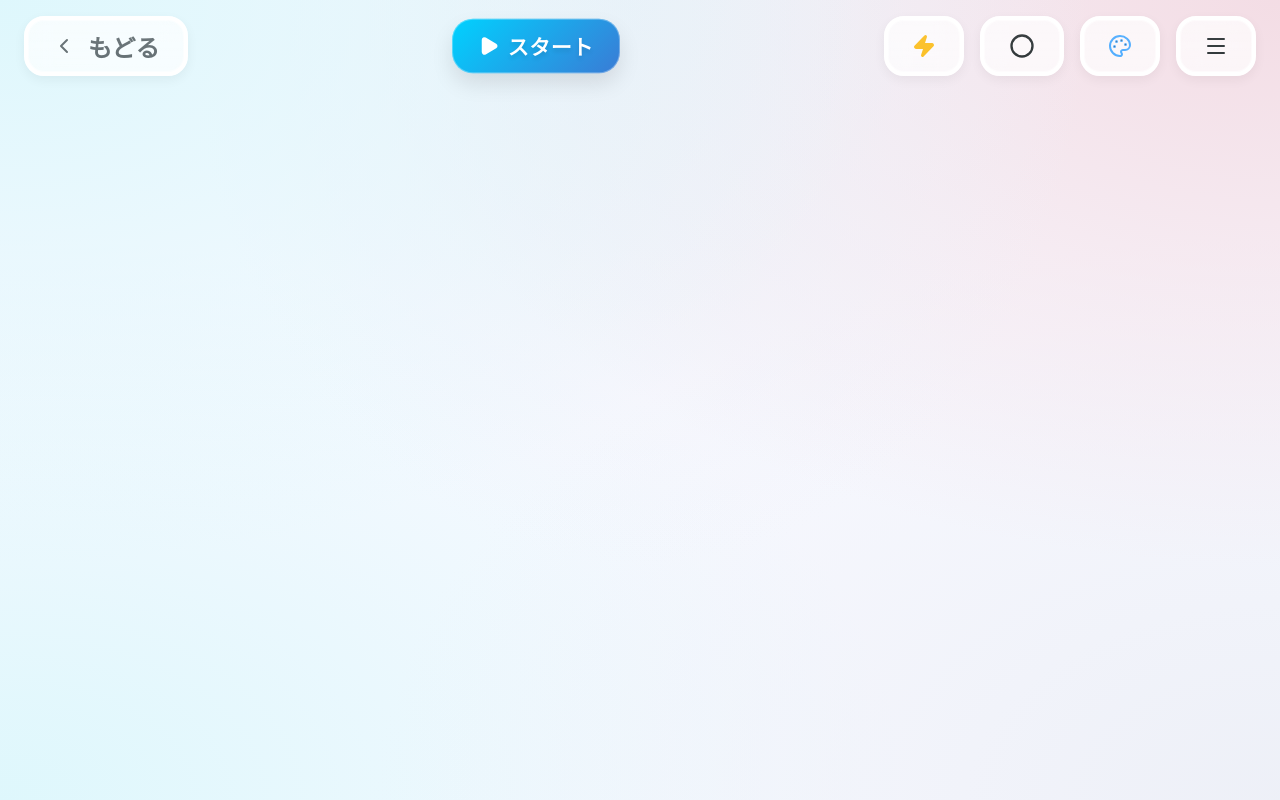
Test: MainTimerView Integration › should start the timer when the start button is clicked
Click the button "スタート": [536, 46] box 452,19 -> 620,73
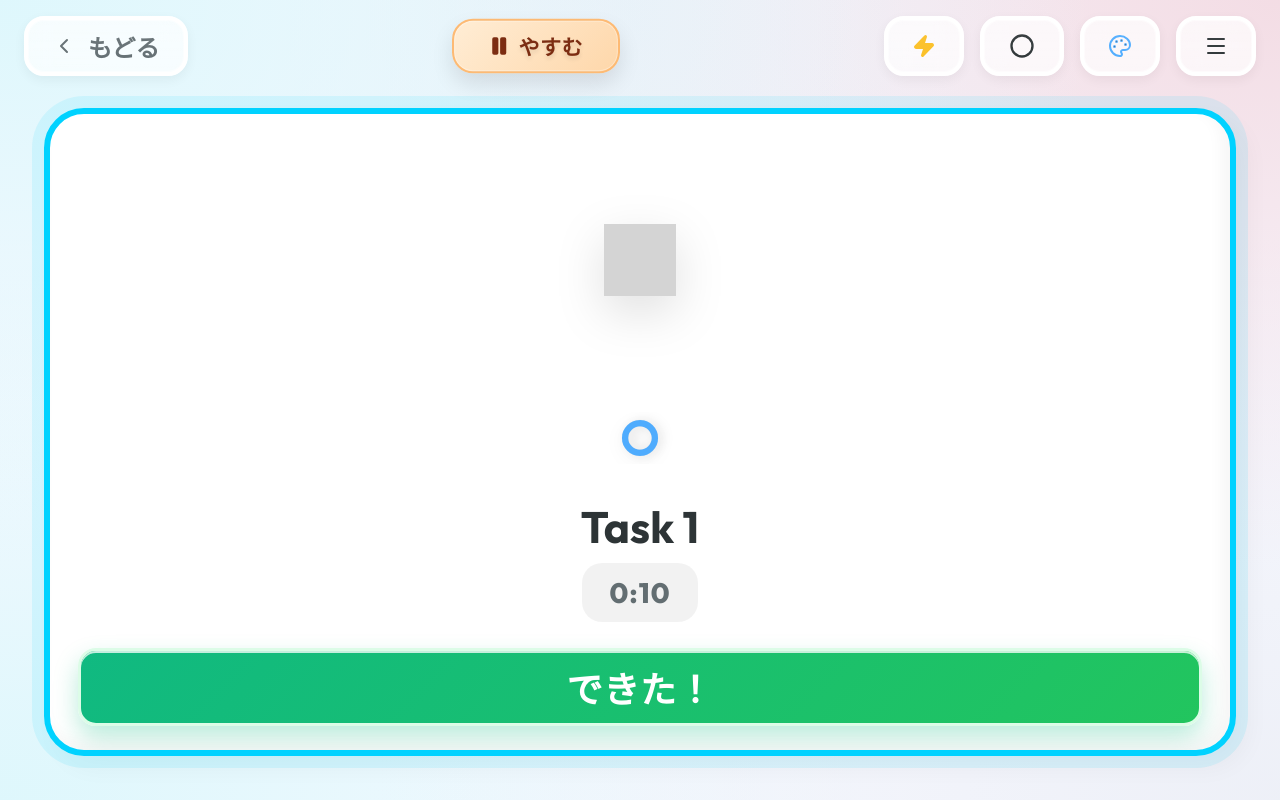
Now the button "やすむ" is shown, box 452,19 -> 620,73
